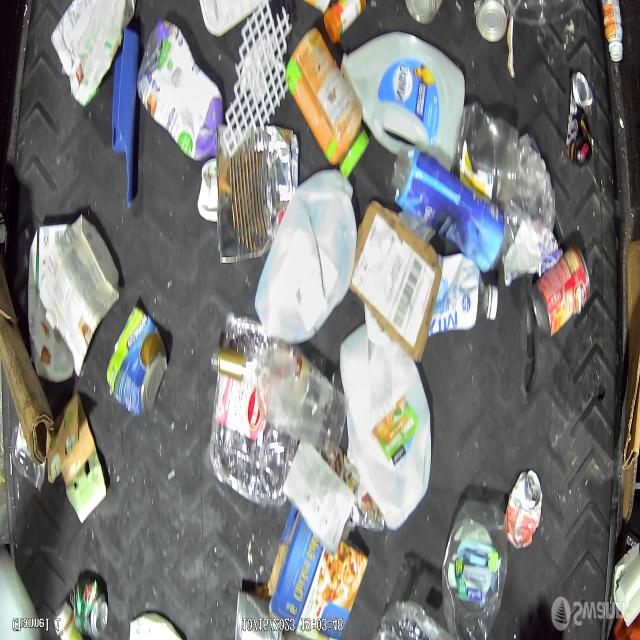can: (216, 124, 300, 264), (106, 304, 170, 418), (531, 243, 593, 337), (505, 470, 542, 550), (566, 72, 595, 168), (71, 575, 108, 640), (474, 0, 508, 43), (405, 0, 446, 26)
milk_jug: (340, 322, 433, 532), (254, 170, 358, 343), (340, 30, 466, 162), (39, 215, 121, 374)
non_white_jug: (137, 18, 224, 160)
plastic_bottle: (250, 342, 347, 460), (442, 498, 508, 640)
